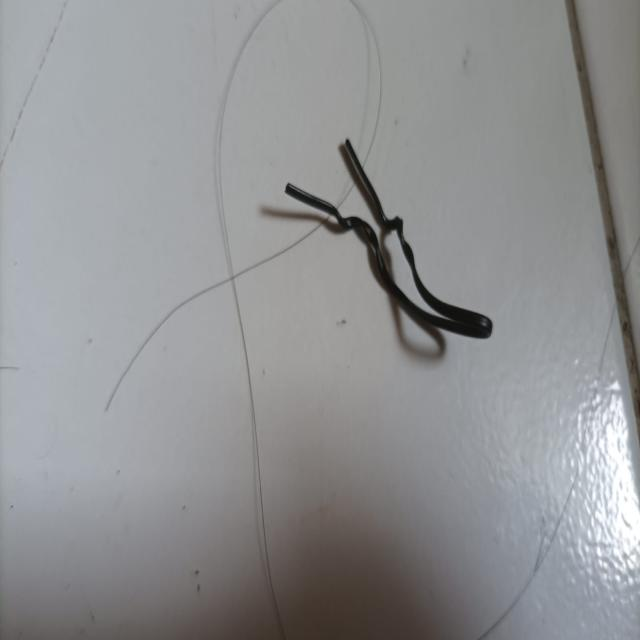Anorganik: (293, 135, 495, 338)
